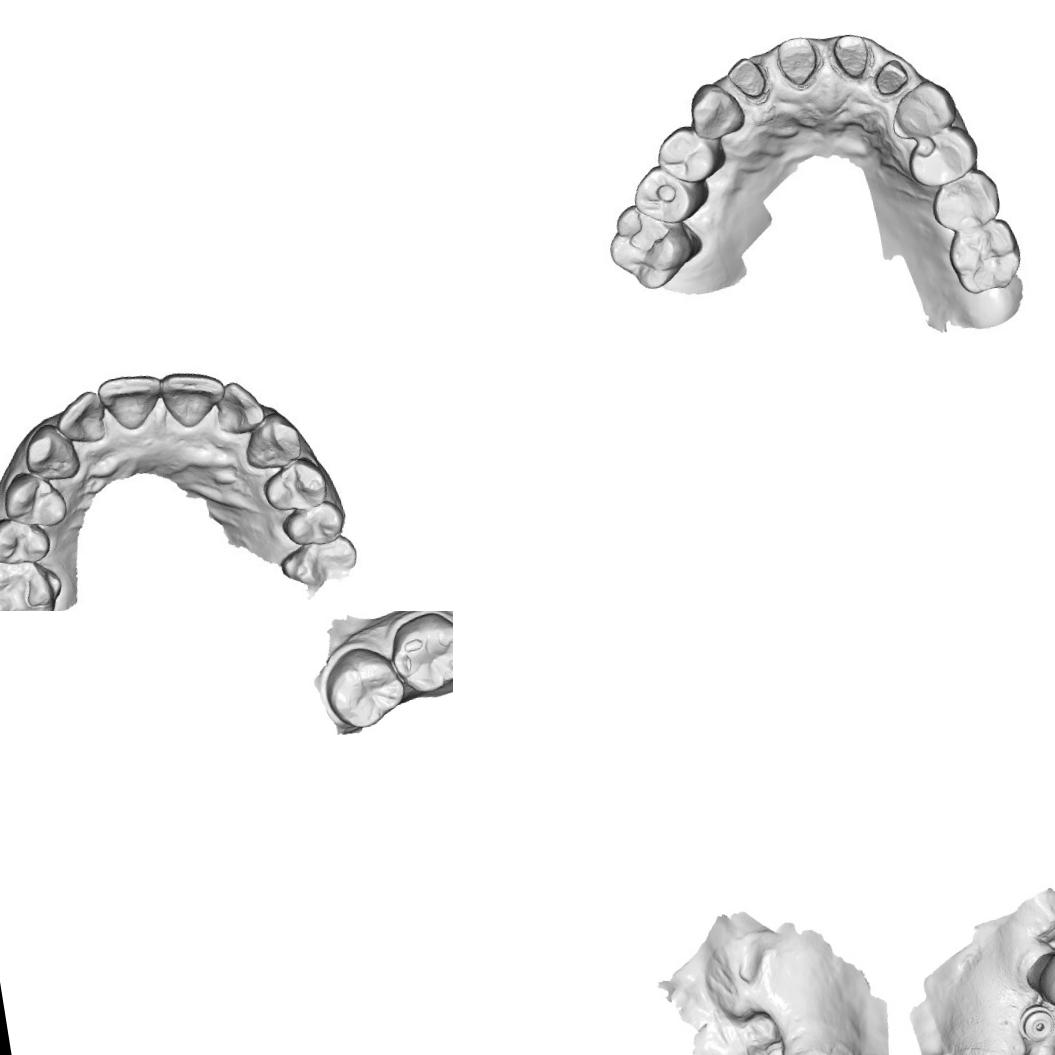canine: (882, 76, 958, 143), (682, 76, 750, 144), (19, 420, 84, 484), (245, 414, 308, 472)
crown: (770, 30, 826, 92), (826, 25, 876, 85), (866, 52, 915, 102), (722, 53, 770, 104)
implant: (1014, 1000, 1055, 1045)
incisor: (162, 368, 228, 430), (98, 370, 161, 430), (215, 375, 269, 436), (60, 390, 112, 442)
molar: (602, 196, 702, 296), (318, 640, 410, 735), (942, 215, 1028, 298), (383, 611, 453, 697), (0, 552, 69, 611), (1021, 941, 1055, 1039)
premolar: (924, 164, 1006, 236), (902, 120, 984, 192), (650, 118, 730, 191), (628, 160, 702, 230), (256, 452, 334, 518), (0, 467, 68, 534), (276, 498, 350, 552), (0, 511, 54, 569)
